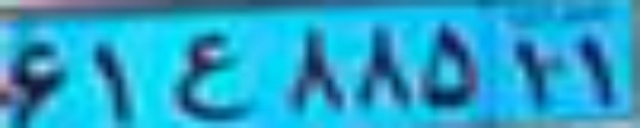1: (89, 39, 137, 126), (508, 33, 554, 110), (571, 33, 617, 108)
5: (416, 20, 485, 107)
6: (4, 40, 68, 125)
8: (287, 25, 345, 114), (355, 22, 411, 112)
ain: (171, 33, 258, 121)
